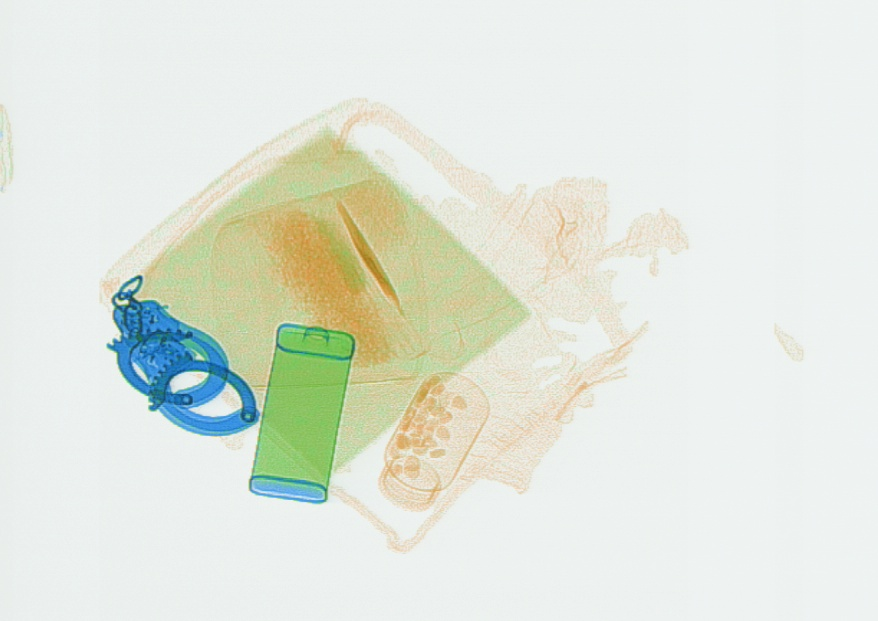handcuffs: (103, 273, 260, 436)
zippooil: (247, 321, 355, 503)
